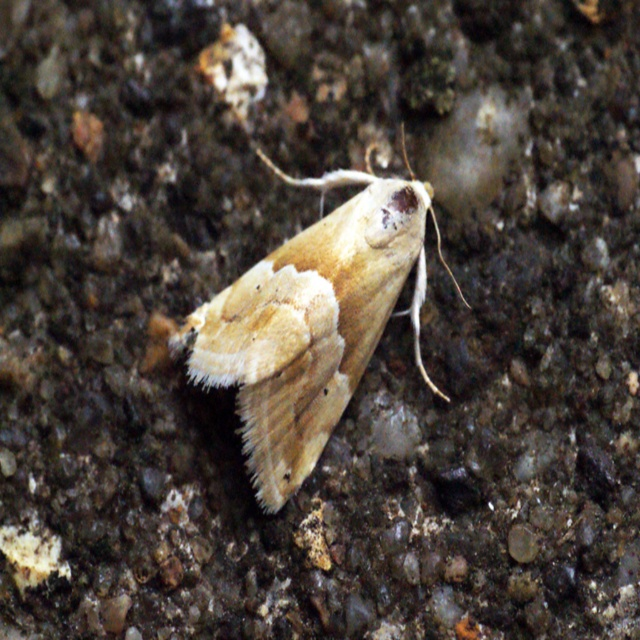Moths and butterflies: (165, 119, 475, 522)
